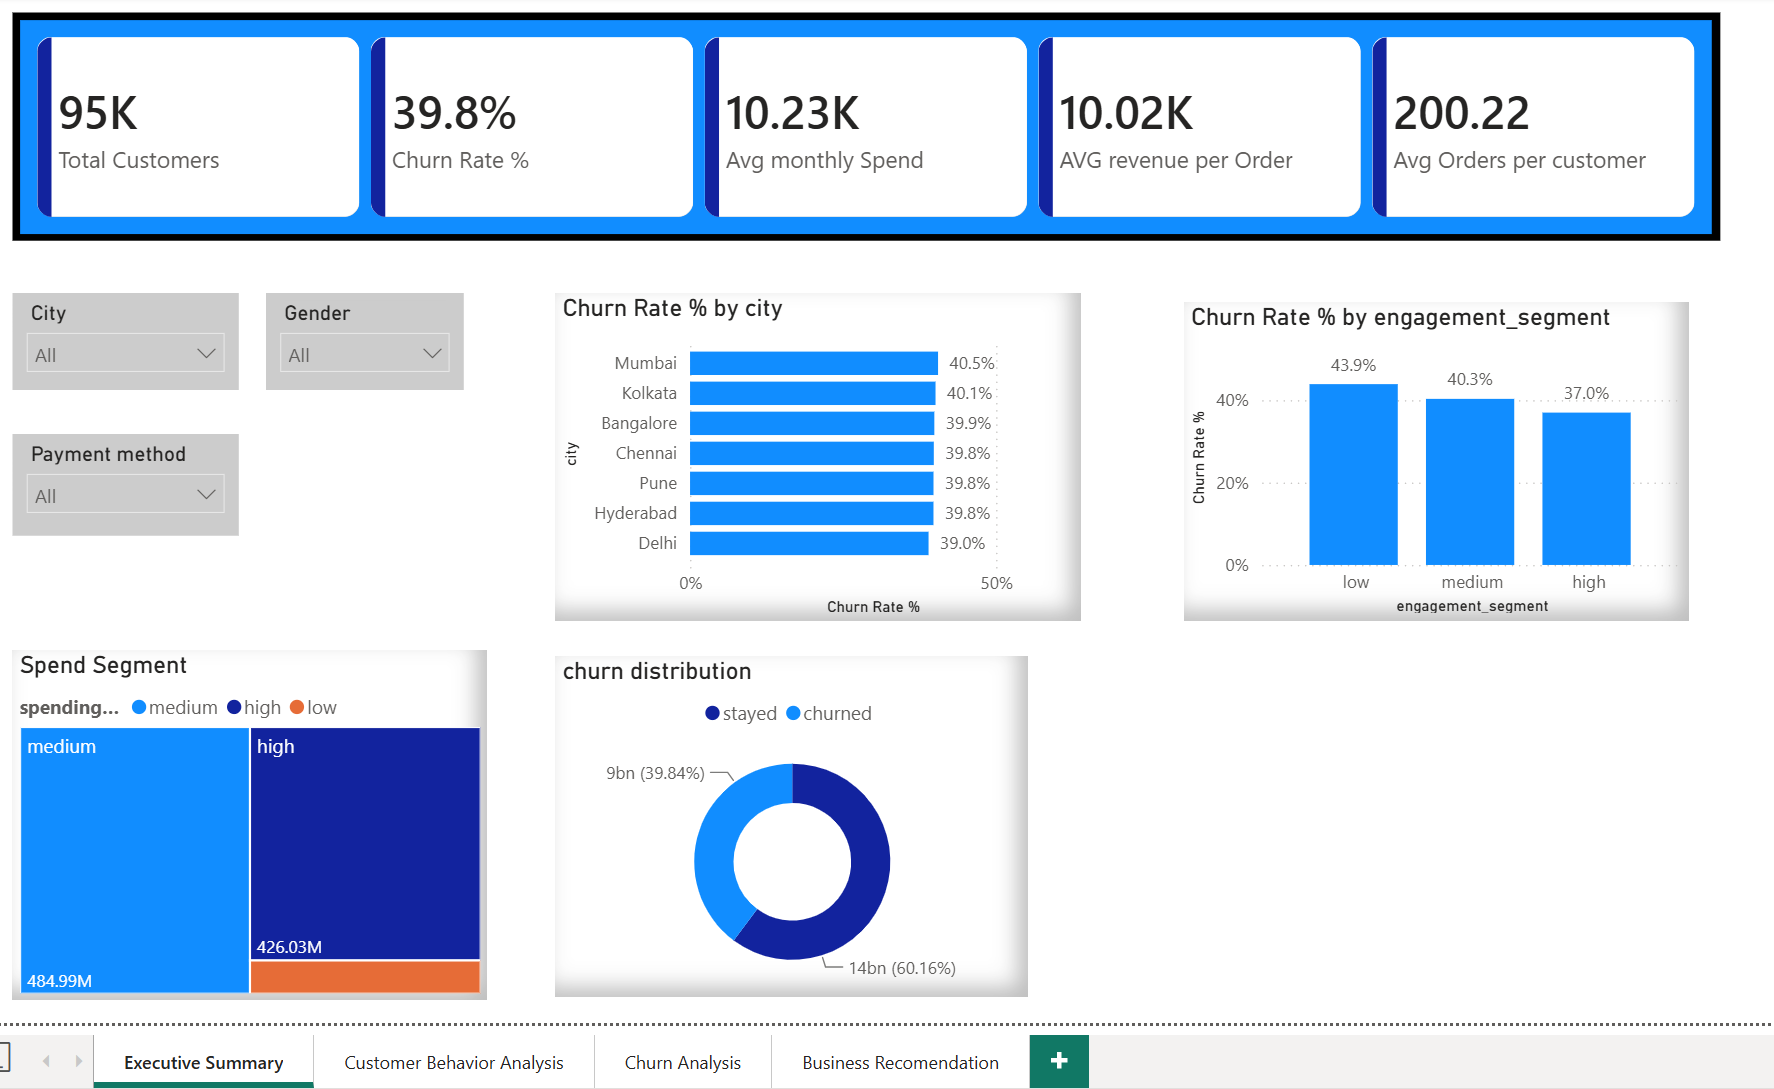

The dashboard page shown, as its layout file describes it:
{"tool":"powerbi","page":{"name":"Executive Summary","canvas":[1280,720],"ordinal":0},"visuals":[{"type":"cardVisual","fields":{"Data":["SQL_data.Total Customers","SQL_data.Churn Rate","SQL_data.Avg monthly Spend","SQL_data.AVG revenue per Order","SQL_data.Avg Orders"]},"box":[16.2,11.3,1197.6,160],"z":0},{"type":"donutChart","title":"churn distribution","fields":{"Category":["SQL_data.customer_status"],"Y":["Sum(SQL_data.customer_id)"]},"box":[396,462.2,331.3,239.2],"z":1000},{"type":"clusteredBarChart","title":"Churn Rate % by city","fields":{"Y":["SQL_data.Churn Rate %"],"Category":["SQL_data.city"]},"box":[396.1,207.9,368.5,230.3],"z":2000},{"type":"clusteredColumnChart","fields":{"Y":["SQL_data.Churn Rate %"],"Category":["SQL_data.engagement_segment"]},"box":[837.2,214.9,353.9,223],"z":3000},{"type":"treemap","title":"Spend Segment","fields":{"Group":["SQL_data.spending_segment"],"Values":["Sum(SQL_data.monthly_spend)"]},"box":[16.2,459,332.9,245.7],"z":4000},{"type":"slicer","fields":{"Values":["SQL_data.city"]},"box":[16.2,208.5,158.4,67.9],"z":5000},{"type":"slicer","fields":{"Values":["SQL_data.gender"]},"box":[193.9,208.5,139,67.9],"z":6000},{"type":"slicer","fields":{"Values":["SQL_data.payment_method"]},"box":[16.2,307.1,158.4,71.1],"z":7000}]}

Visuals, with their boxes on the page's 1280x720 design canvas (x1, y1, x2, y2). These are canvas units, not pixel positions in the 1774x1089 screenshot, which may show the page scaled, cropped or inside an application window:
cardVisual - SQL_data.Total Customers x SQL_data.Churn Rate: 16 11 1214 171
"churn distribution" donutChart: 396 462 727 701
"Churn Rate % by city" clusteredBarChart: 396 208 765 438
clusteredColumnChart - SQL_data.Churn Rate % x SQL_data.engagement_segment: 837 215 1191 438
"Spend Segment" treemap: 16 459 349 705
slicer - SQL_data.city: 16 208 175 276
slicer - SQL_data.gender: 194 208 333 276
slicer - SQL_data.payment_method: 16 307 175 378
